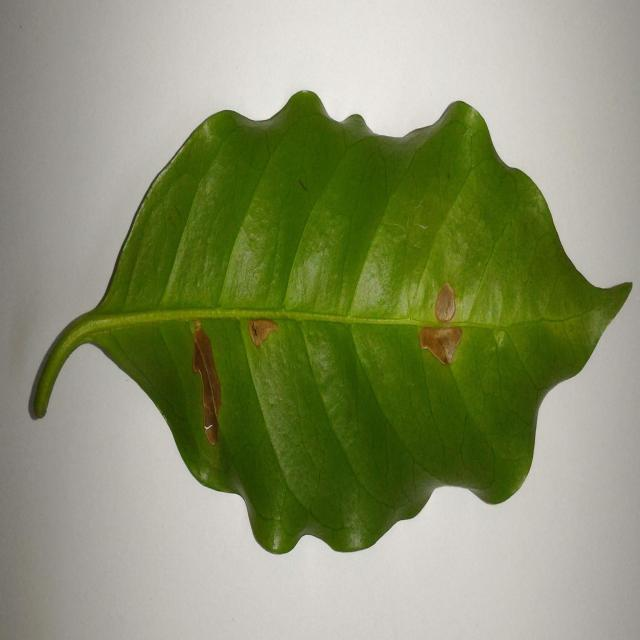Plaga-Minador: (27, 92, 633, 558)
